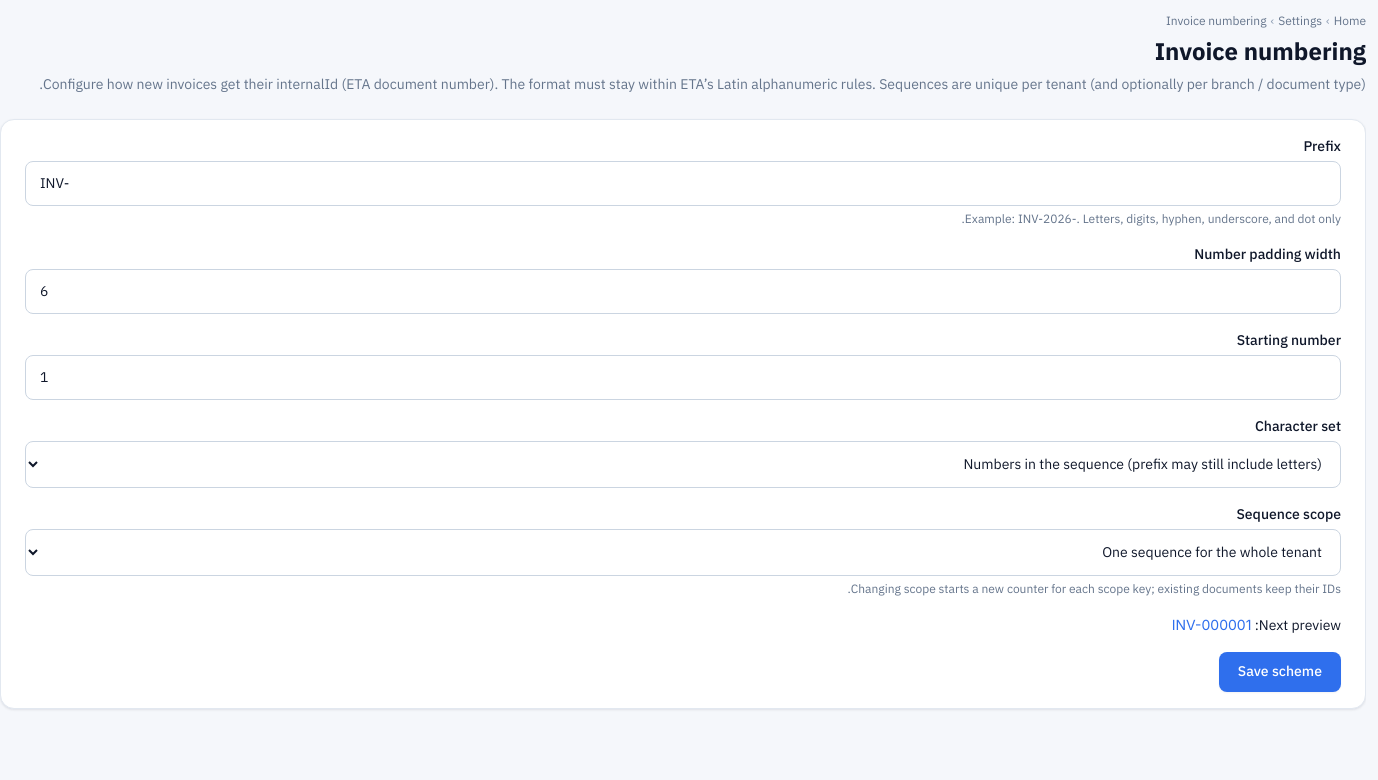
invoice numbering form › loads existing values before showing the form and keeps the save payload
Expected: the field showing "INV-" is shown, x1=25 y1=161 x2=1341 y2=206
Expected: the number field showing "6" is shown, x1=25 y1=269 x2=1341 y2=314
Click the button "Save scheme" at (1280, 672), box x1=1219 y1=652 x2=1341 y2=692
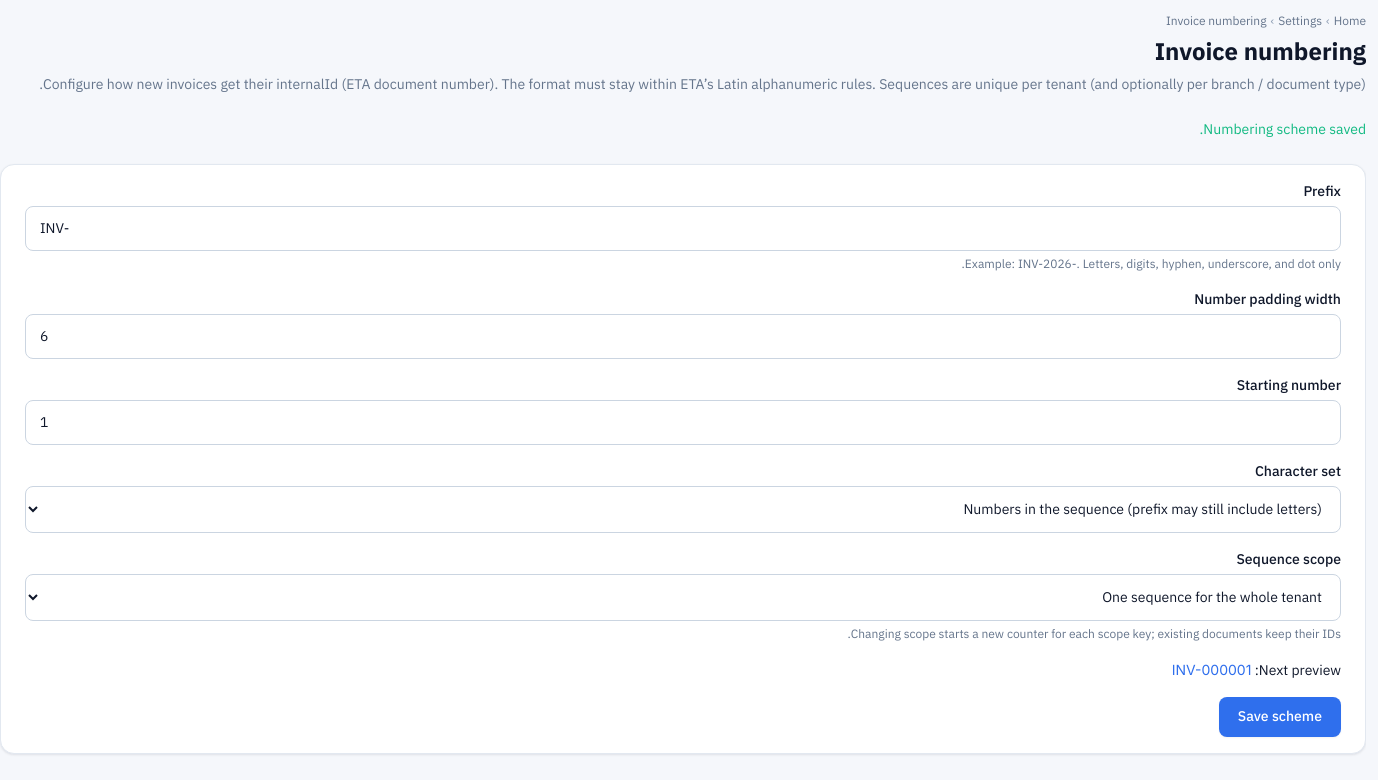
Now the text "Numbering scheme saved." is shown, box x1=1200 y1=119 x2=1366 y2=140
